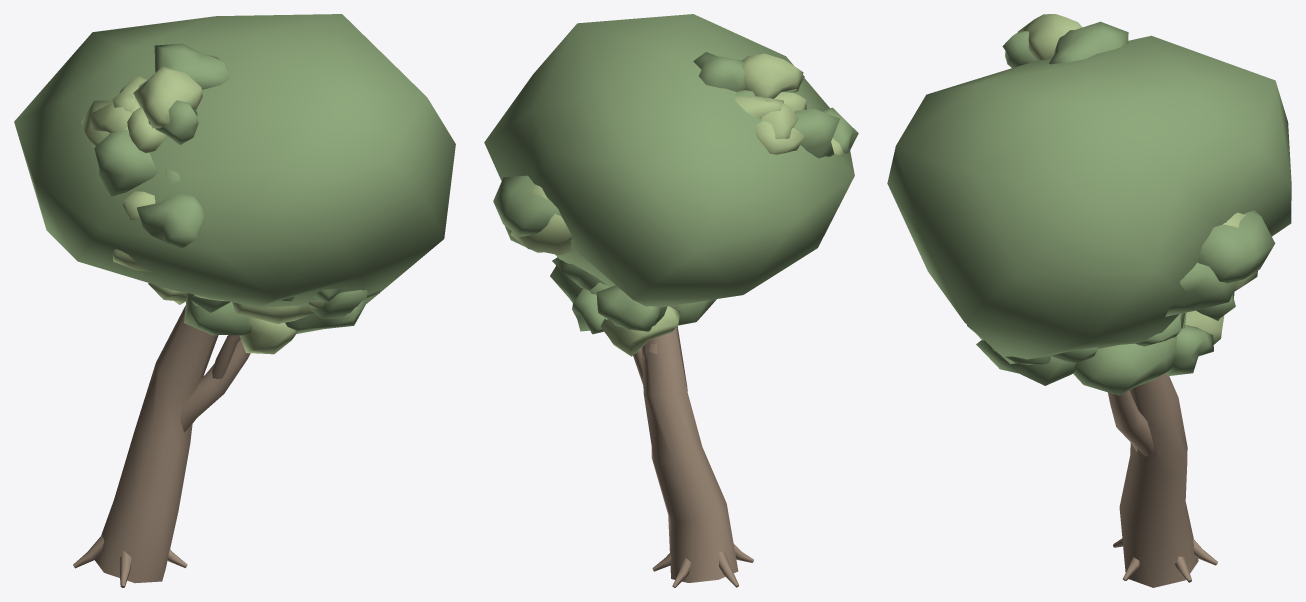
3 renders of one model, left to right at view 1: azimuth 30°, elevation 25°; view 2: azimuth 150°, elevation 25°; view 3: azimuth 270°, elevation 25°, orthographic. The views are drawn at different scales.
Visible parts, largest first — view 1: pm2_m3; view 2: pm2_m3; view 3: pm2_m3.
Part boxes in pixels (<box>): pm2_m3: <box>14,14,455,587</box>; pm2_m3: <box>484,14,858,587</box>; pm2_m3: <box>887,14,1291,587</box>.
Bounding box in the file's own units: 7.2 × 10.59 × 7.03.
